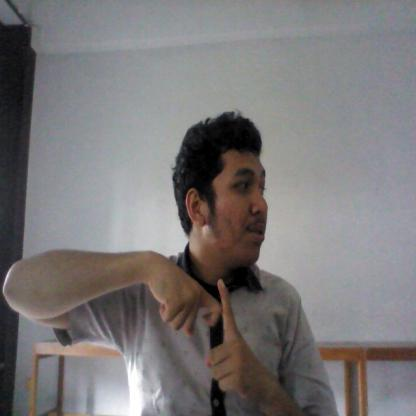K: (150, 257, 251, 399)
